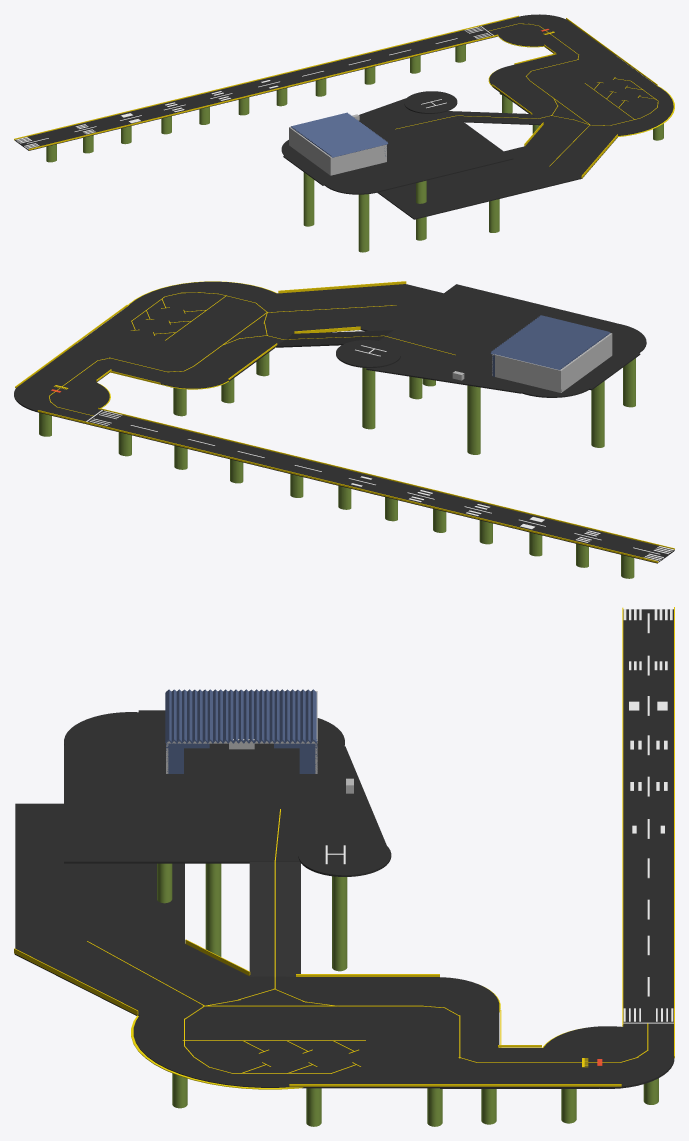
Rendered from tav2.glb.
3 renders of one model, top to bottom at view 1: azimuth 30°, elevation 25°; view 2: azimuth 150°, elevation 25°; view 3: azimuth 270°, elevation 25°, orthographic. The views are drawn at different scales.
Visible parts, largest first — view 1: mesh (×13), cylinder (×9), group; view 2: mesh (×13), cylinder (×11), group; view 3: mesh (×10), cylinder (×9), group.
Boxes of the visible parts, x1,y1,x2,y2 form: mesh (×13): [14, 15, 663, 219]; cylinder (×9): [303, 14, 673, 252]; group: [508, 18, 657, 85]; mesh (×13): [34, 284, 674, 563]; cylinder (×11): [14, 281, 646, 454]; group: [15, 304, 200, 388]; mesh (×10): [14, 607, 674, 1088]; cylinder (×9): [64, 712, 673, 1088]; group: [289, 1004, 621, 1088].
Size of what is drawn, in the model's own units: 27.53 by 3.88 by 16.04.
Materials: 11 (11 with a texture image).
